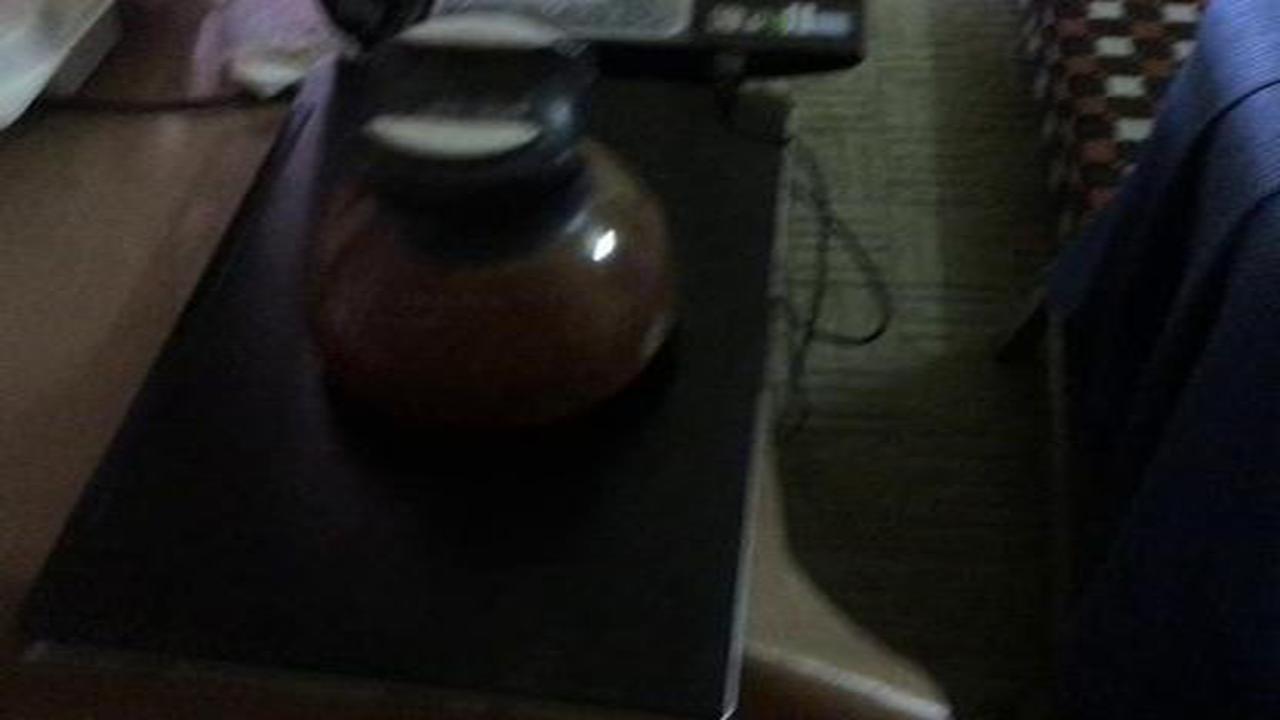insulator_pin: (284, 5, 702, 442)
